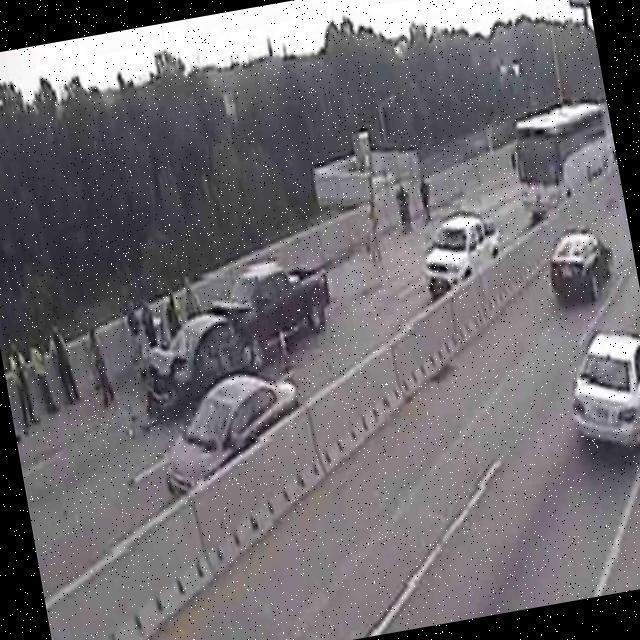accident: (119, 243, 348, 424)
